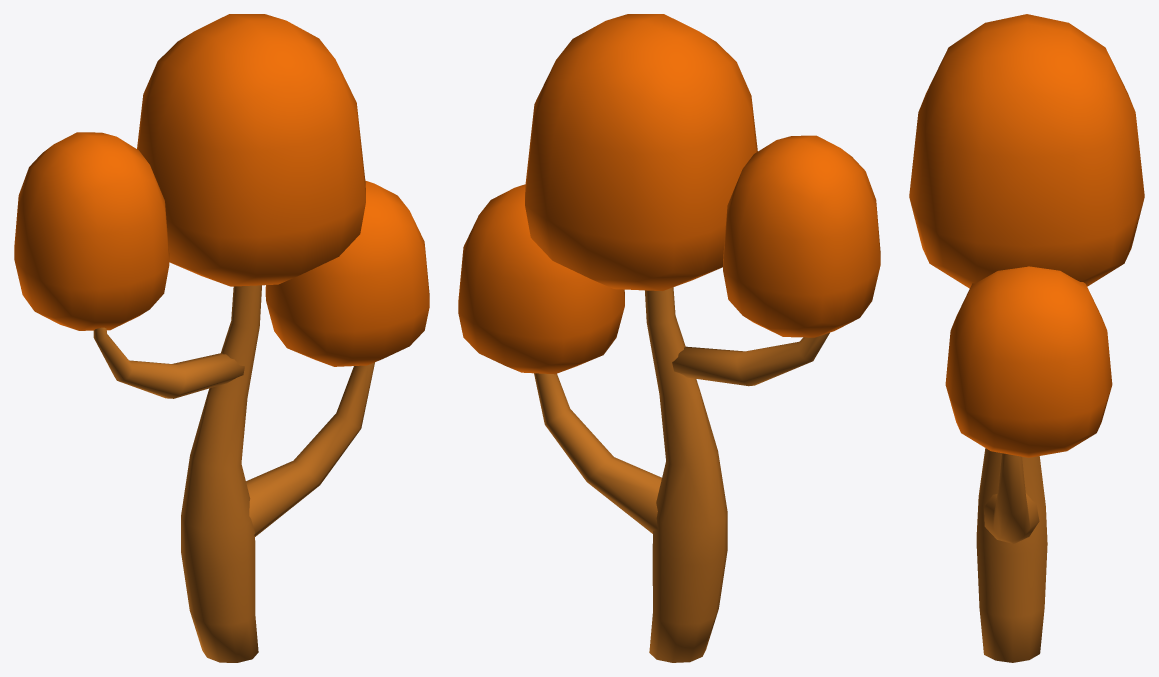
Rendered from Tree_28_Fall.fbx.
3 views of the same model, side by side, from view 1: azimuth 30°, elevation 25°; view 2: azimuth 150°, elevation 25°; view 3: azimuth 270°, elevation 25° (orthographic). The views are drawn at different scales.
Parts seen in each view (by area): view 1: Tree_28_p2_Fall, Tree_28_p1_Fall; view 2: Tree_28_p2_Fall, Tree_28_p1_Fall; view 3: Tree_28_p2_Fall, Tree_28_p1_Fall.
Part boxes in pixels (box(x1,y1,x2,y2)): Tree_28_p2_Fall: box(14, 14, 429, 366); Tree_28_p1_Fall: box(93, 285, 374, 662); Tree_28_p2_Fall: box(458, 14, 880, 374); Tree_28_p1_Fall: box(534, 287, 829, 662); Tree_28_p2_Fall: box(909, 14, 1144, 457); Tree_28_p1_Fall: box(976, 448, 1047, 662).
Size of the model in its own units: 426 by 643 by 214.
